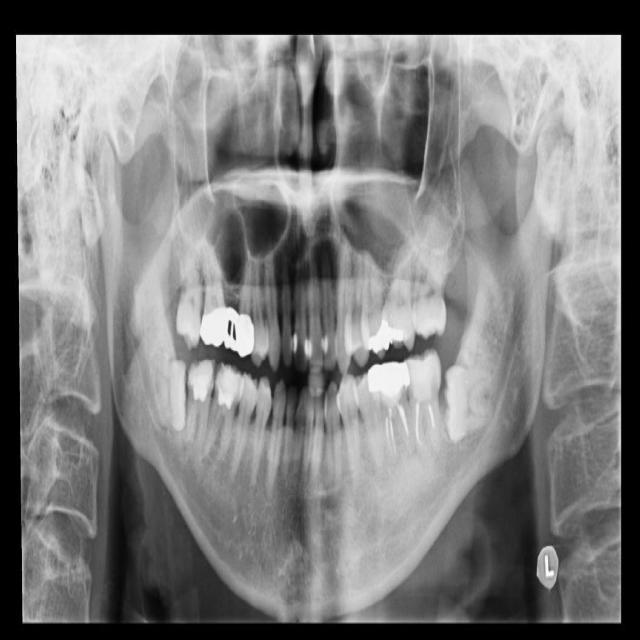3M ESPE Implant: (176, 247, 202, 351)
52: (193, 300, 264, 361), (363, 356, 419, 421), (213, 363, 246, 421), (379, 301, 418, 350), (183, 357, 218, 409), (359, 314, 390, 360), (308, 334, 323, 373), (322, 335, 337, 371), (294, 334, 308, 369)
73: (376, 399, 422, 469), (404, 395, 448, 463), (592, 533, 594, 552)
BioHorizons Implant: (411, 250, 448, 339)
Biomet 3i Implant: (442, 362, 499, 444)
Blue Sky Bio Implant: (402, 348, 447, 459)
Caries: (198, 241, 228, 347)
Implant: (177, 356, 217, 455)
Keystone Dental Implant: (149, 348, 188, 432)
